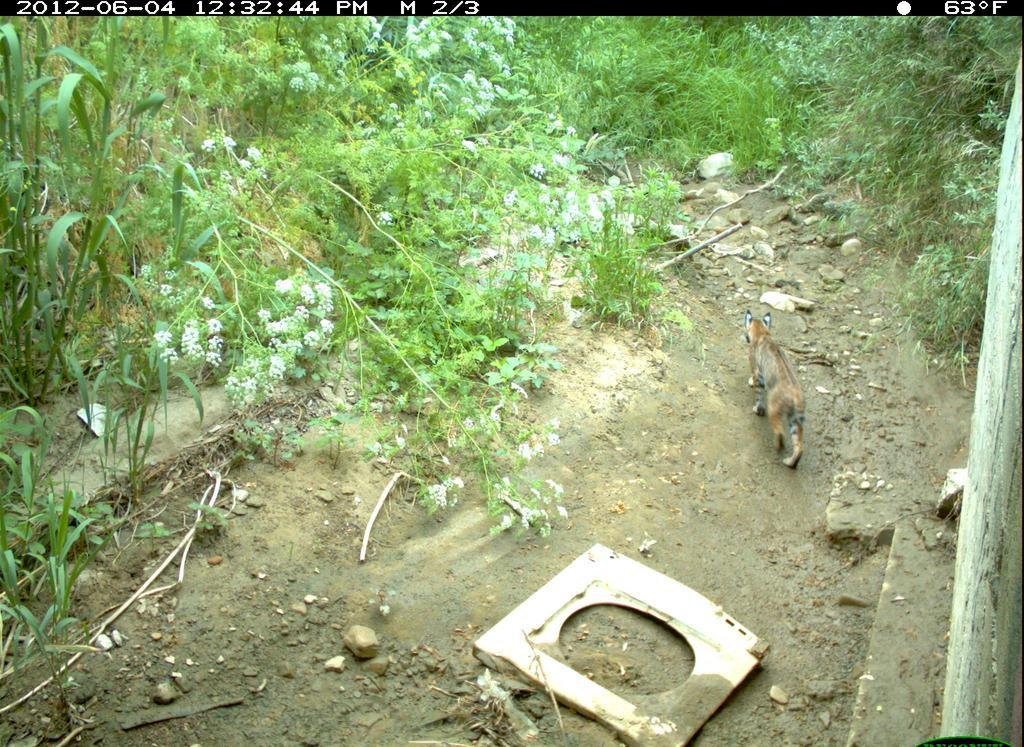bobcat: (739, 308, 816, 482)
